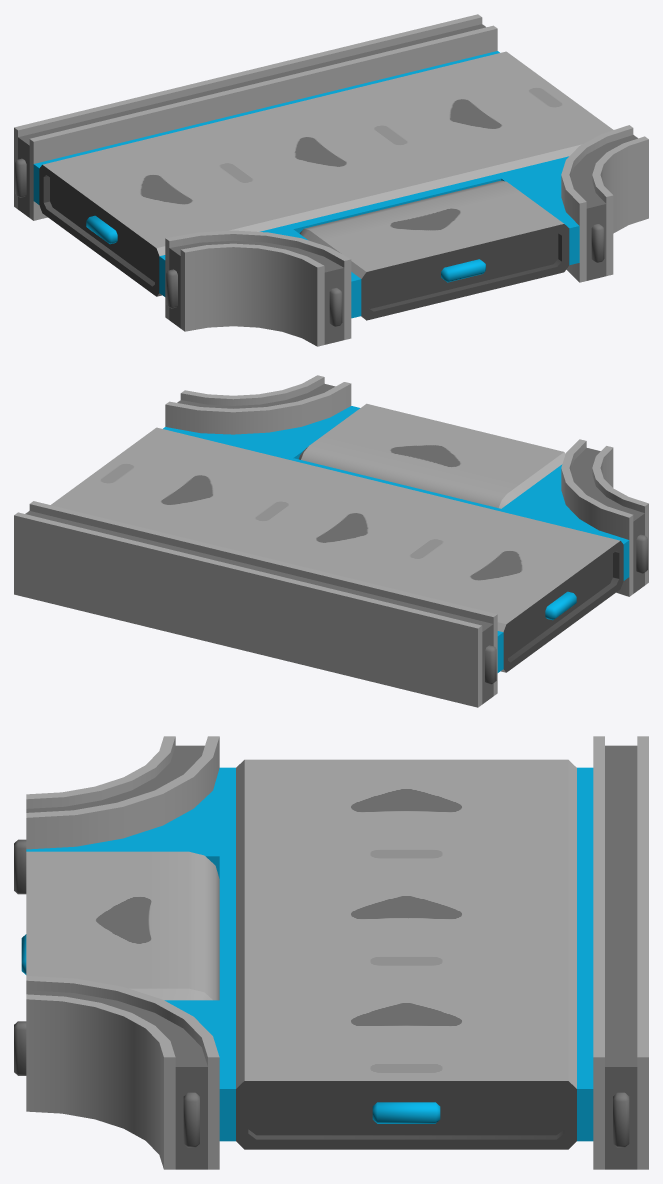
The model's file is Conveyor_Belt_2nd_3_Way_01C.fbx.
3 renders of one model, top to bottom at view 1: azimuth 30°, elevation 25°; view 2: azimuth 150°, elevation 25°; view 3: azimuth 270°, elevation 25°, orthographic. The views are drawn at different scales.
Parts seen in each view (by area): view 1: Conveyor_Belt_2nd_3_Way_01C; view 2: Conveyor_Belt_2nd_3_Way_01C; view 3: Conveyor_Belt_2nd_3_Way_01C.
Boxes of the visible parts, x1,y1,x2,y2 form: Conveyor_Belt_2nd_3_Way_01C: (14,14,648,346); Conveyor_Belt_2nd_3_Way_01C: (14,375,648,707); Conveyor_Belt_2nd_3_Way_01C: (14,736,648,1169).
Bounding box in the file's own units: 207 × 32.6 × 167.
